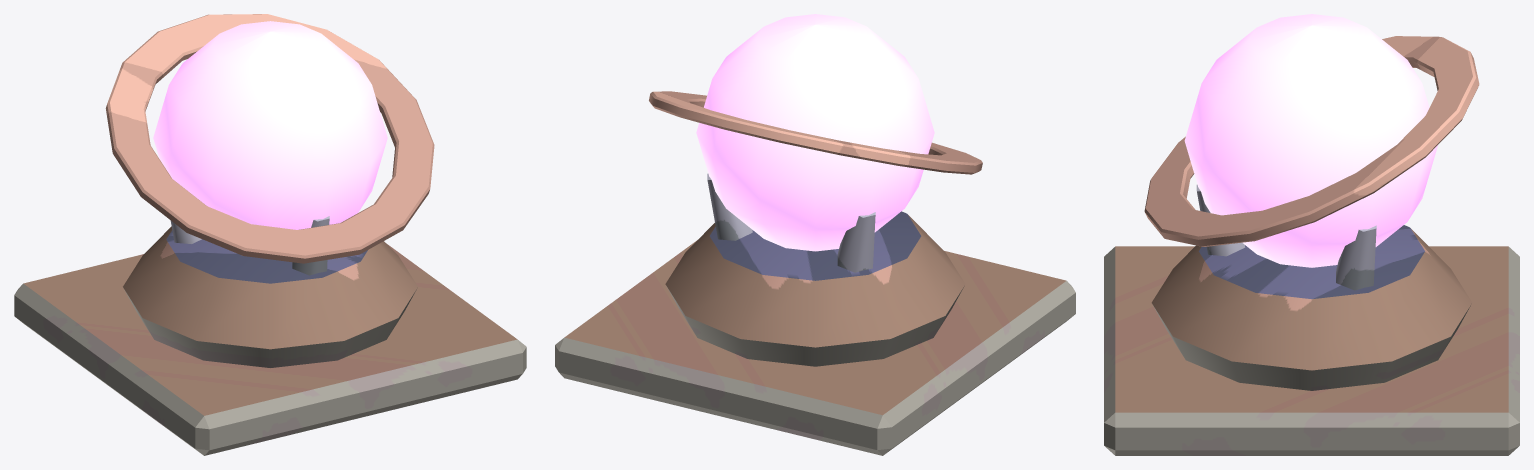
Rendered from R4X_OrbAmplifier_LOD1.glb.
3 renders of one model, left to right at view 1: azimuth 30°, elevation 25°; view 2: azimuth 150°, elevation 25°; view 3: azimuth 270°, elevation 25°, orthographic. The views are drawn at different scales.
Visible parts, largest first — view 1: R4X_OrbAmplifier_LOD1; view 2: R4X_OrbAmplifier_LOD1; view 3: R4X_OrbAmplifier_LOD1.
Part boxes in pixels (left/top/right/bottom): R4X_OrbAmplifier_LOD1: left=14, top=14, right=526, bottom=455; R4X_OrbAmplifier_LOD1: left=555, top=14, right=1075, bottom=455; R4X_OrbAmplifier_LOD1: left=1104, top=14, right=1519, bottom=455.
Bounding box in the file's own units: 0.52 × 0.4793 × 0.52.
5 materials, 4 textured.
